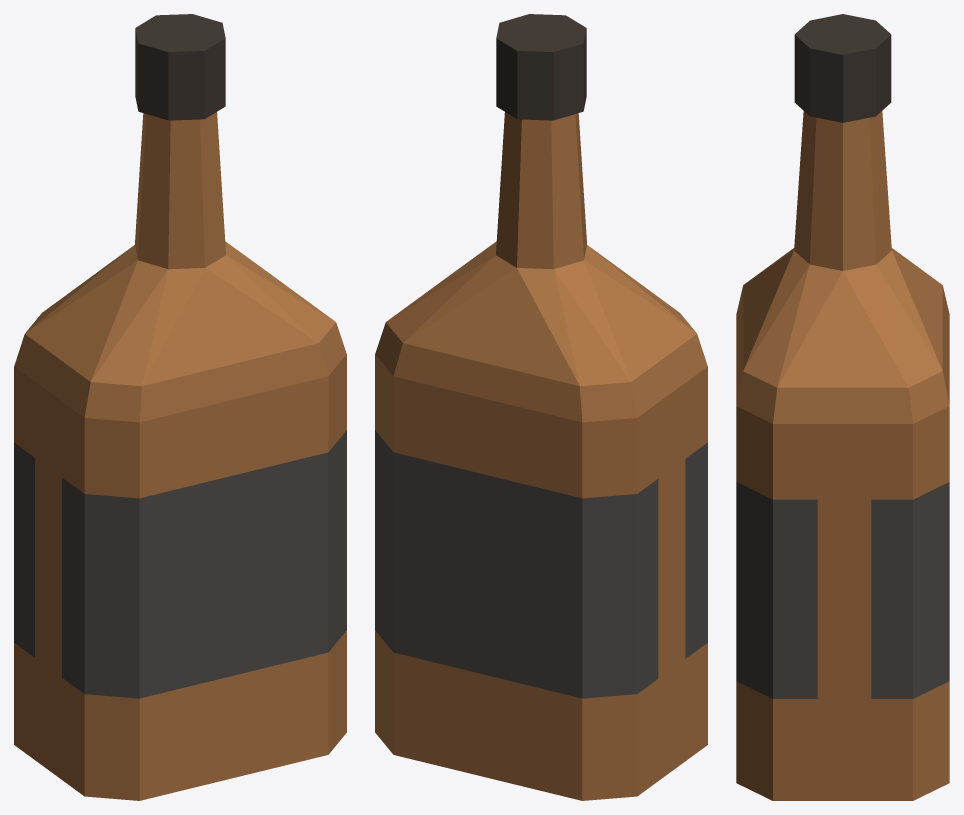
The model's file is bouteille.obj.
3 renders of one model, left to right at view 1: azimuth 30°, elevation 25°; view 2: azimuth 150°, elevation 25°; view 3: azimuth 270°, elevation 25°, orthographic.
Parts seen in each view (by area): view 1: SM_Prop_Bottle_363_SM_Prop_Bottle_01; view 2: SM_Prop_Bottle_363_SM_Prop_Bottle_01; view 3: SM_Prop_Bottle_363_SM_Prop_Bottle_01.
Part boxes in pixels (x1,y1,x2,y2): SM_Prop_Bottle_363_SM_Prop_Bottle_01: (14, 14, 346, 800); SM_Prop_Bottle_363_SM_Prop_Bottle_01: (375, 14, 707, 800); SM_Prop_Bottle_363_SM_Prop_Bottle_01: (736, 14, 949, 800).
Bounding box in the file's own units: 0.1397 × 0.3591 × 0.0988.
